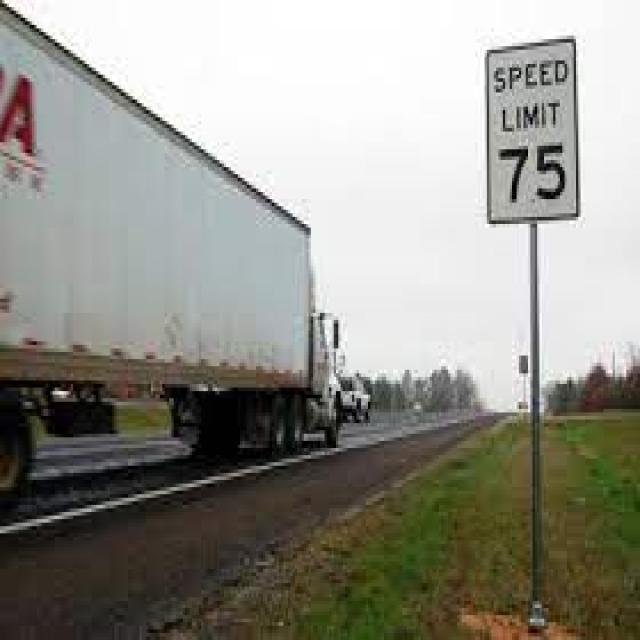speedLimit75: (482, 42, 583, 228)
